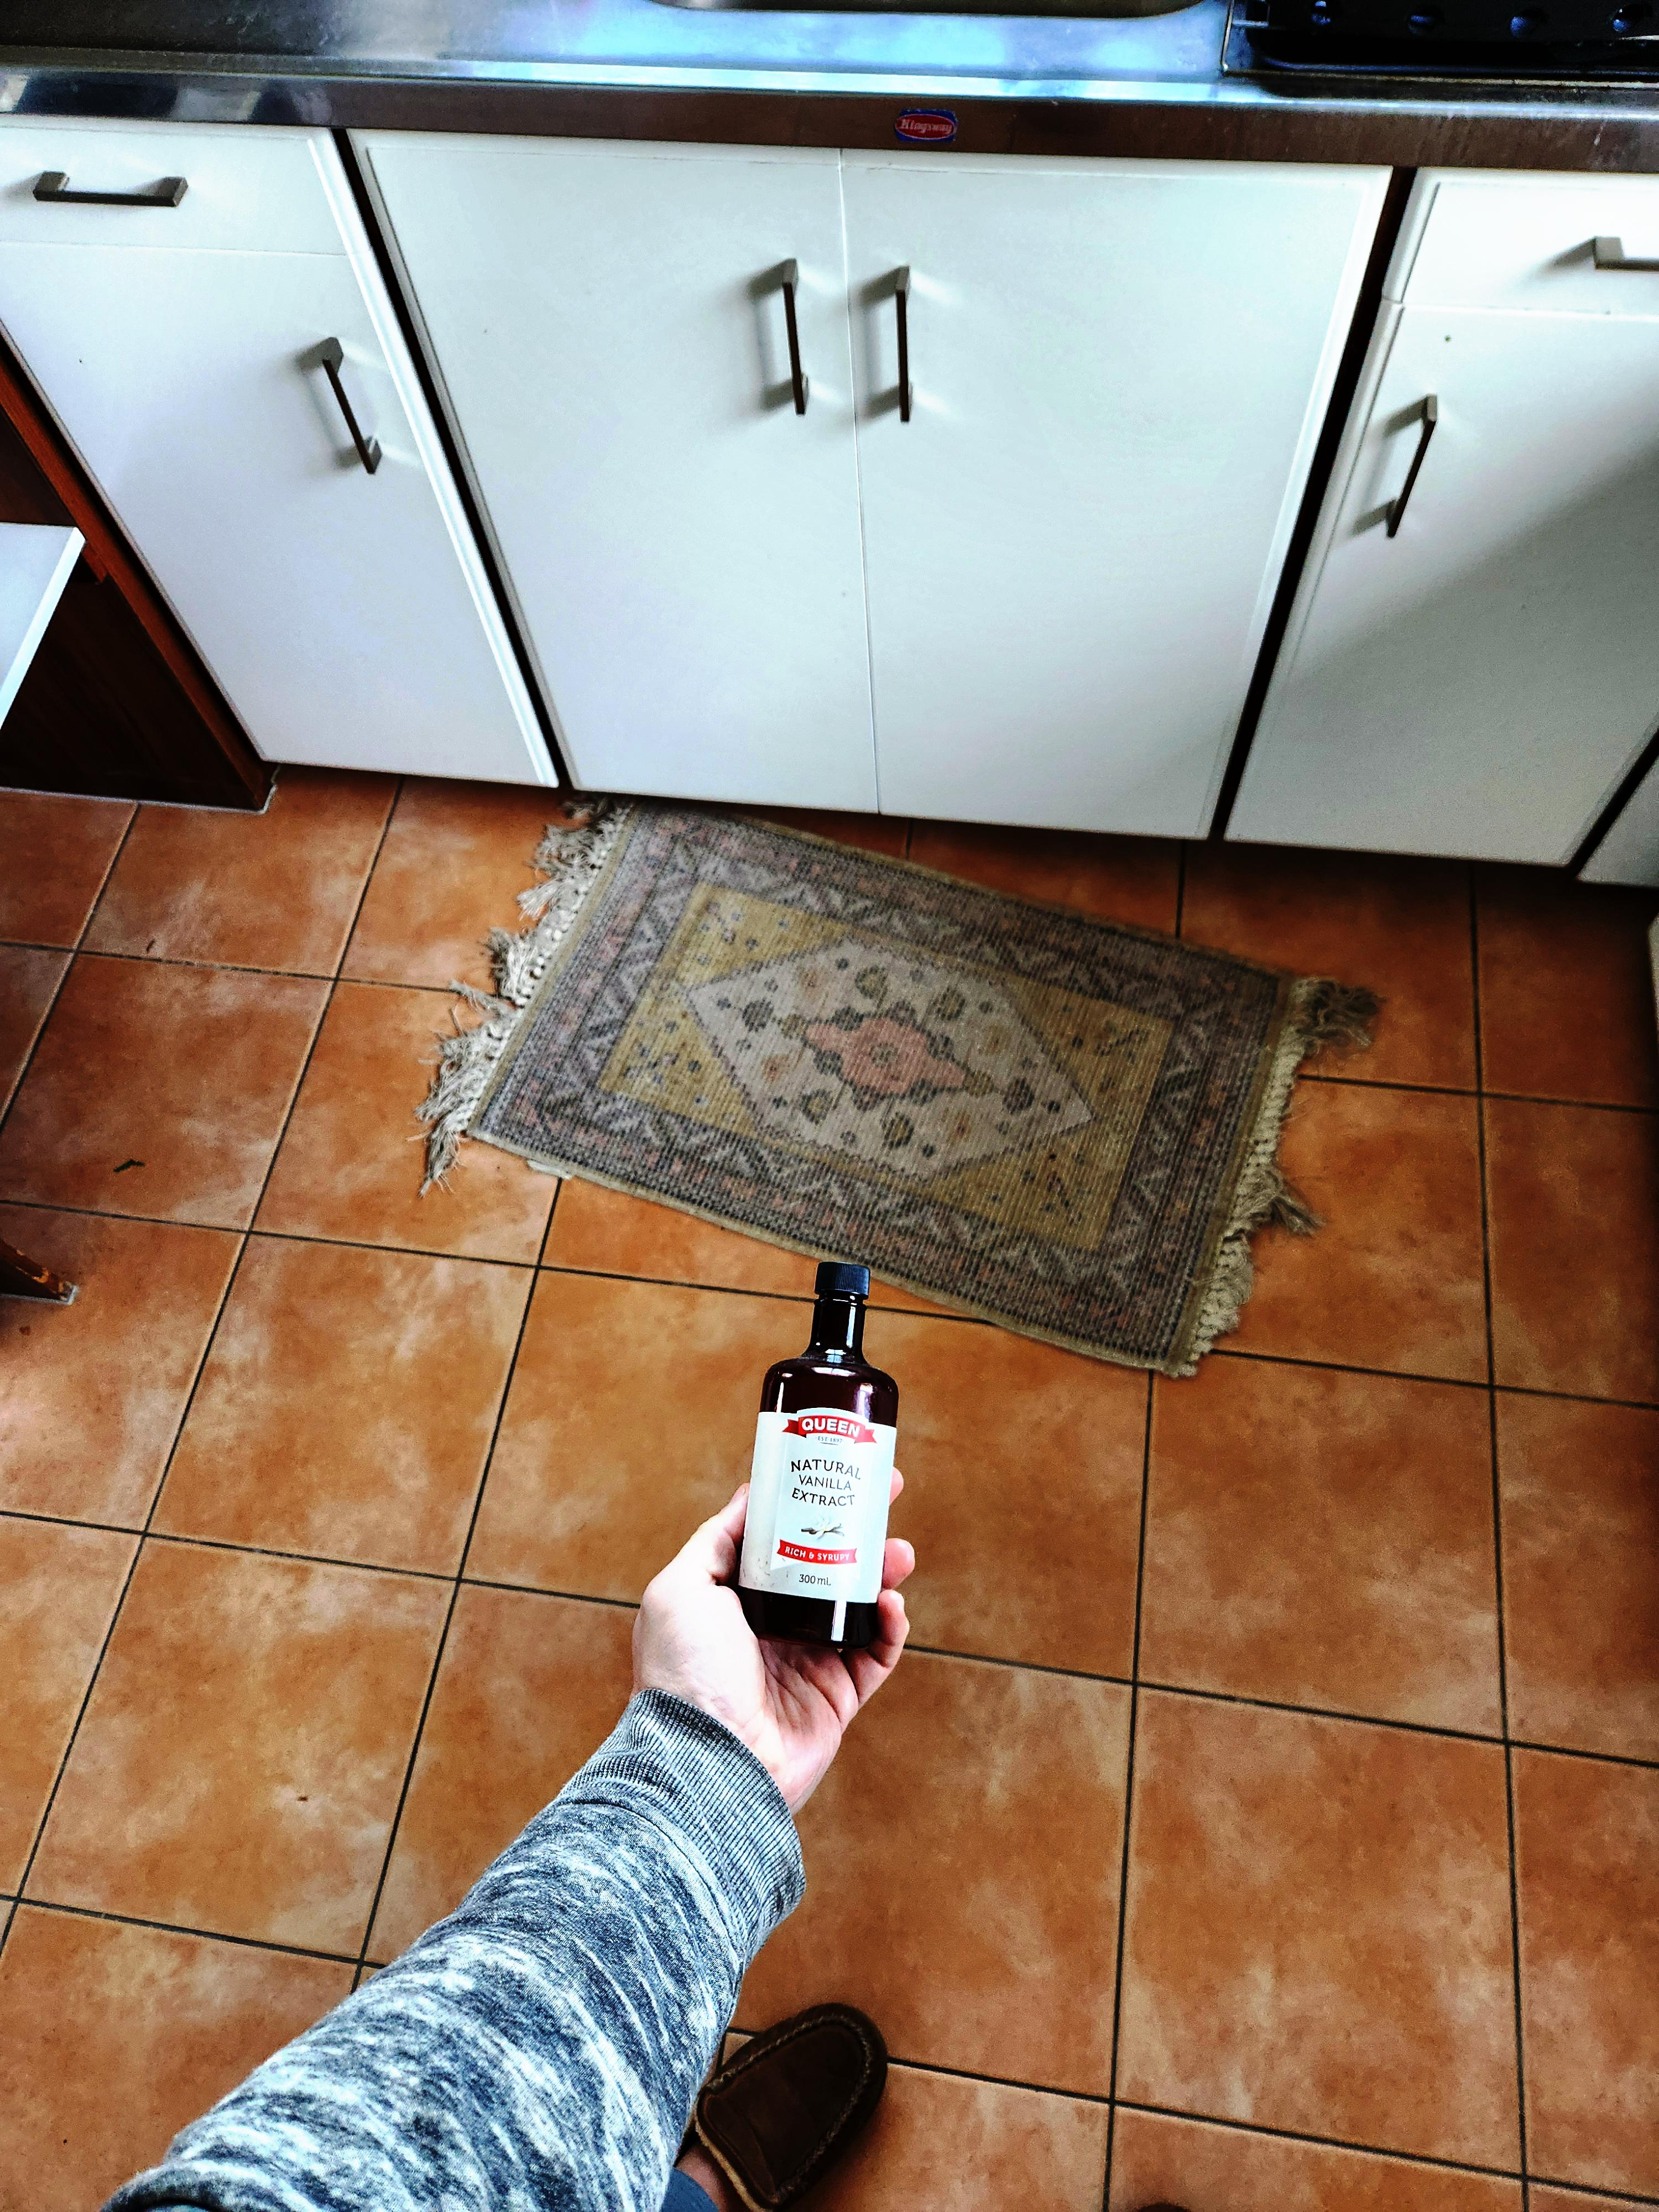vanilla: (556, 1677, 674, 2209)
